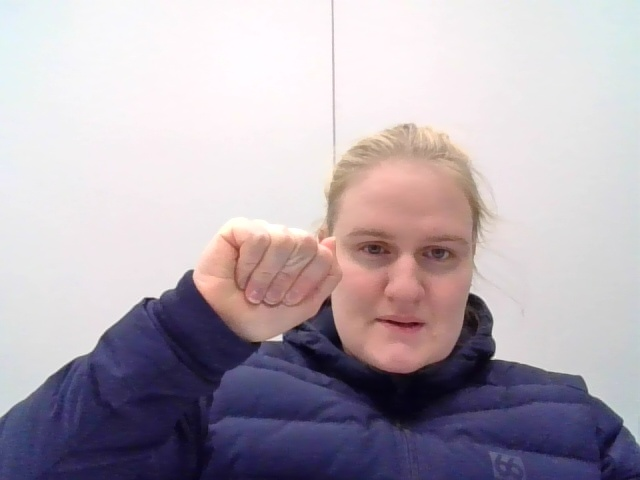down: (174, 207, 353, 347)
